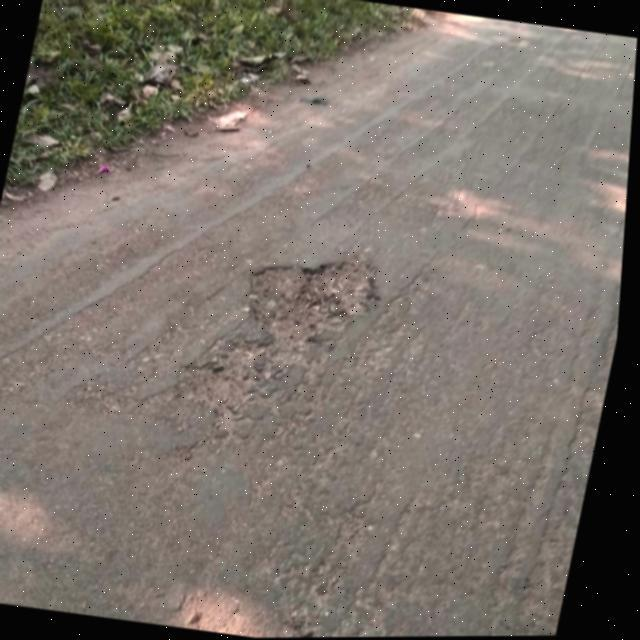pothole: (238, 240, 394, 360)
